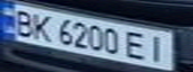0: (84, 23, 106, 53), (103, 26, 124, 56)
2: (69, 19, 90, 51)
6: (51, 17, 75, 47)
B: (6, 7, 39, 37)
E: (124, 29, 151, 62)
I: (142, 33, 172, 64)
K: (27, 11, 57, 43)
